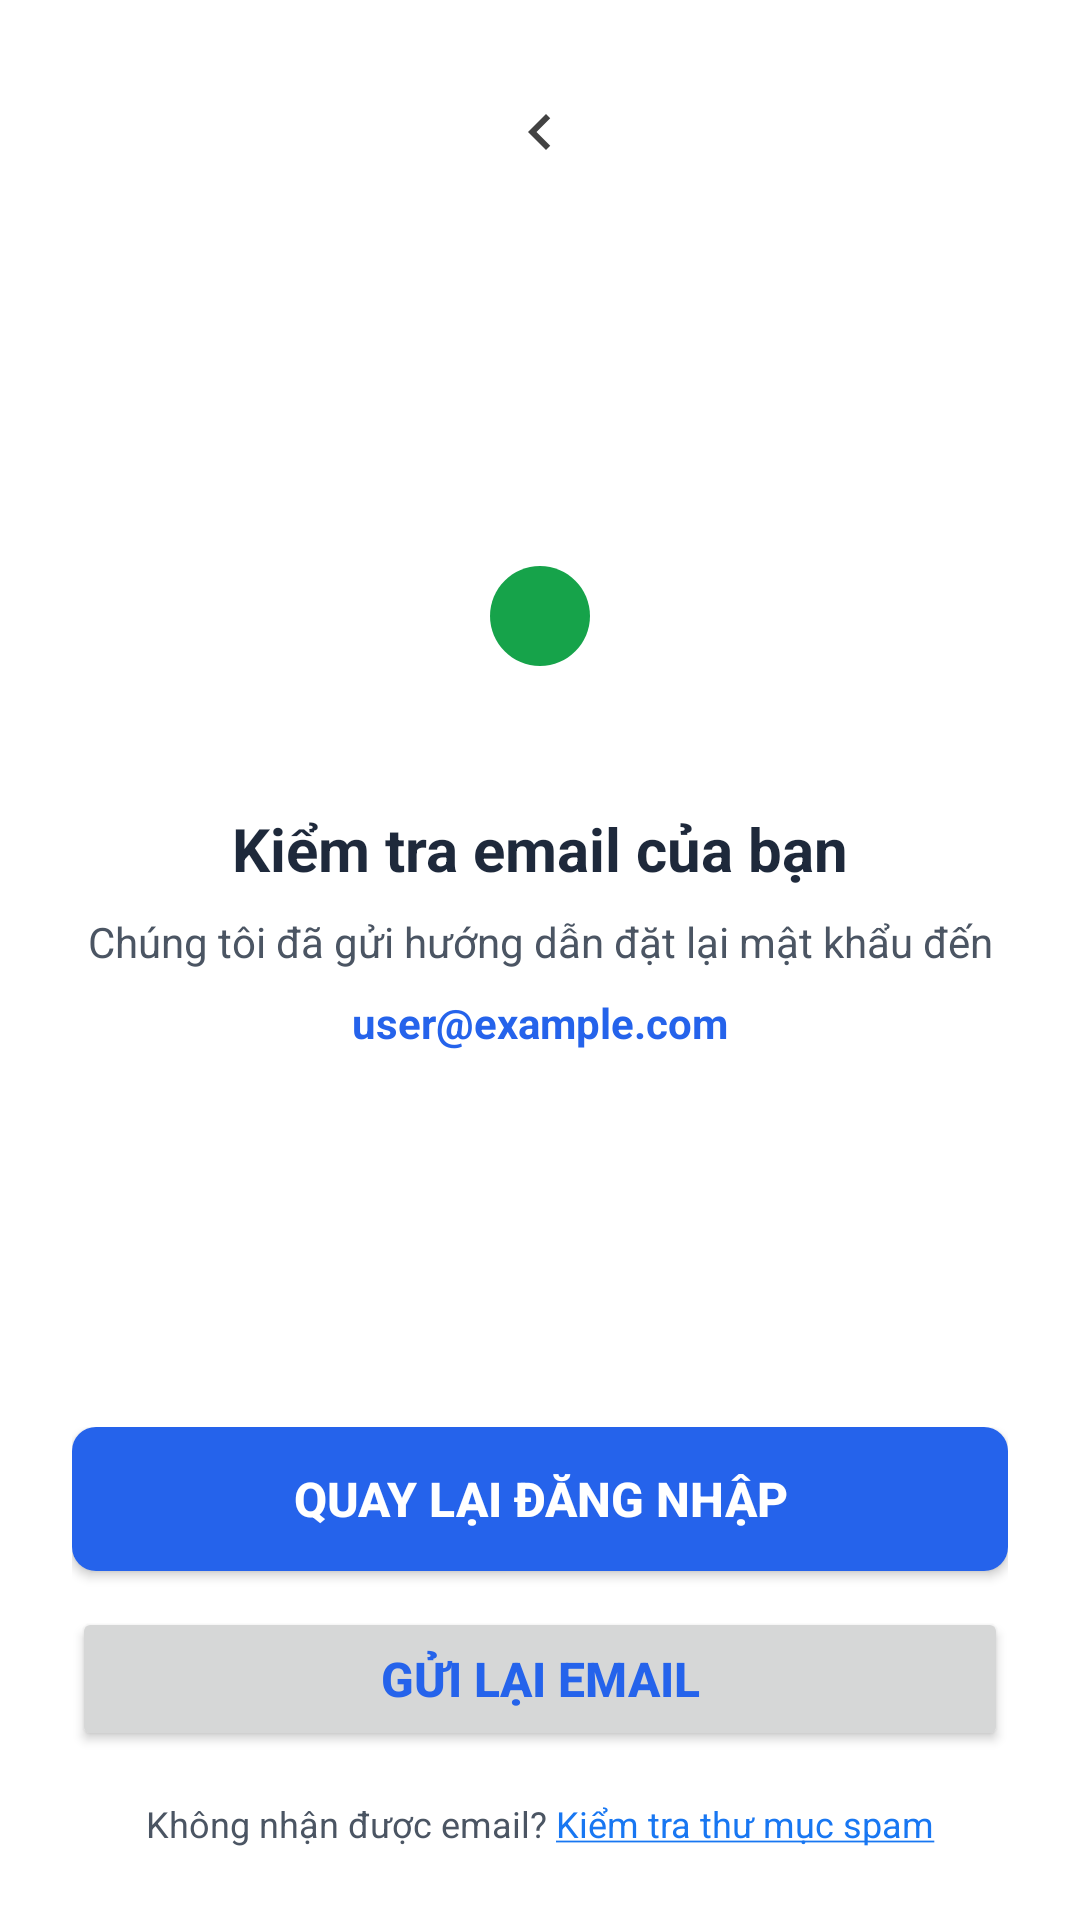

Locate icon controls on the screen. Image size 1080 × 1920, boxes as [x1, y1, x2, y2].
Quay lại: [528, 114, 550, 150]
